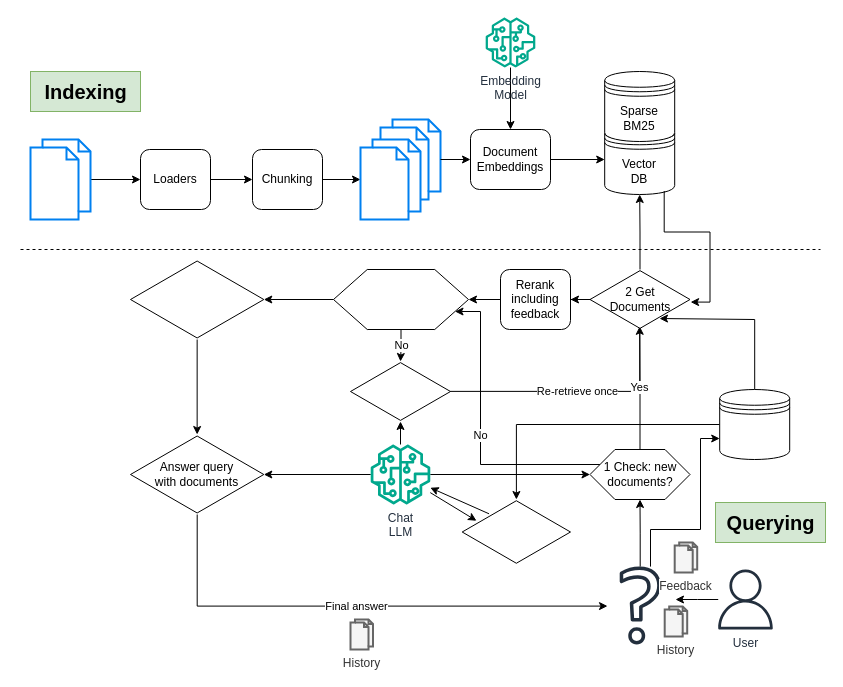
The diagram is 843 pixels wide and 687 high, and some of its shapes have lost their labels. The shapes that lost their labels are listed below. From the top down, each one's centre as x and y in pixels, then its label:
At pixel 60 179: "Your documents".
At pixel 390 179: "Chunks".
At pixel 197 299: "5 Inject documents into prompt".
At pixel 400 299: "3 Check: answer in documents?".
At pixel 400 391: "4 Rewrite Query".
At pixel 754 424: "Feedback DB".
At pixel 515 531: "LLM Updater".
At pixel 639 605: "Query".
